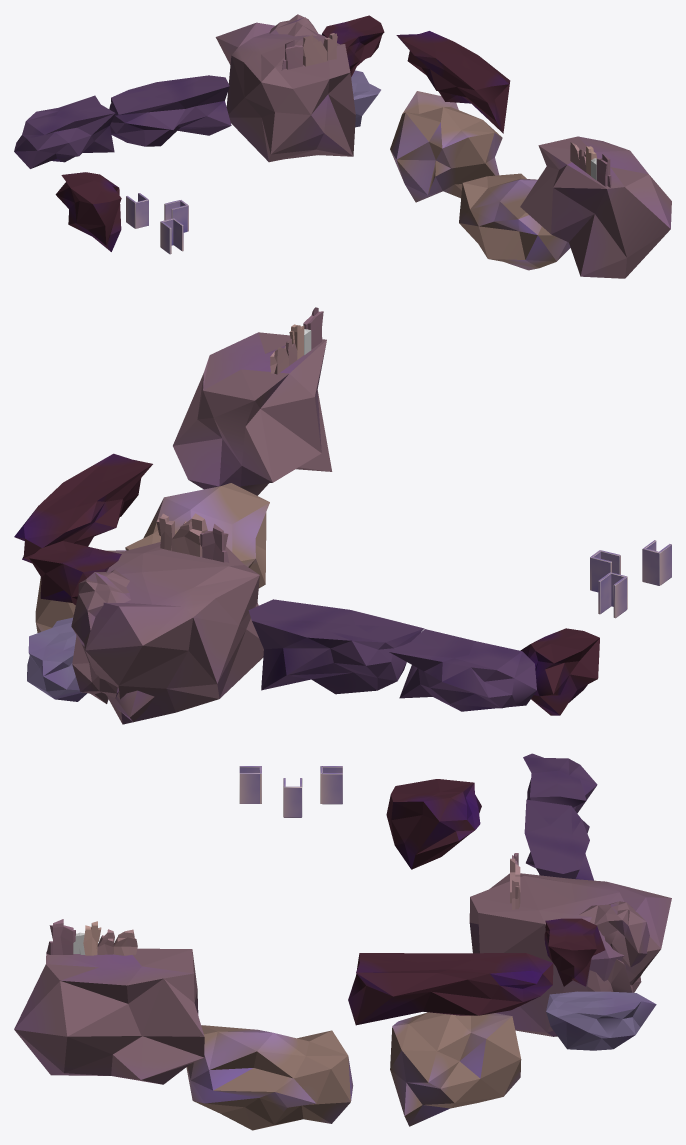
The model's file is stone_3.fbx.
The picture shows the model from 3 angles, top to bottom: view 1: azimuth 30°, elevation 25°; view 2: azimuth 150°, elevation 25°; view 3: azimuth 270°, elevation 25°; orthographic projection. The views are drawn at different scales.
Parts seen in each view (by area): view 1: st_3_28.001, st_3_18.001, st_3_27.001, st_3_26.001, st_3_21.001, st_3_20.001, st_3_22.001, st_3_23.001, st_3_24.001, st_3_29.001, st_3_25.001, st_3_7.001 (+3 smaller); view 2: st_3_28.001, st_3_18.001, st_3_21.001, st_3_22.001, st_3_20.001, st_3_26.001, st_3_23.001, st_3_24.001, st_3_29.001, st_3_25.001, st_3_19.001, st_3_27.001 (+3 smaller); view 3: st_3_18.001, st_3_26.001, st_3_28.001, st_3_20.001, st_3_27.001, st_3_23.001, st_3_29.001, st_3_21.001, st_3_24.001, st_3_22.001, st_3_25.001, st_3_19.001 (+4 smaller).
Part boxes in pixels (x1,y1,x2,y2): st_3_28.001: (215,22,355,162); st_3_18.001: (520,136,671,278); st_3_27.001: (390,91,502,202); st_3_26.001: (459,173,570,270); st_3_21.001: (109,75,231,146); st_3_20.001: (396,31,510,133); st_3_22.001: (14,95,115,168); st_3_23.001: (55,172,121,251); st_3_24.001: (321,15,384,77); st_3_29.001: (351,70,380,127); st_3_25.001: (269,14,317,36); st_3_7.001: (302,34,327,66); st_3_28.001: (84,542,263,724); st_3_18.001: (173,332,332,495); st_3_21.001: (248,599,424,694); st_3_22.001: (389,629,536,711); st_3_20.001: (14,453,152,563); st_3_26.001: (125,483,269,588); st_3_23.001: (520,628,599,715); st_3_24.001: (29,541,121,605); st_3_29.001: (27,617,86,701); st_3_25.001: (71,569,130,646); st_3_19.001: (72,635,154,722); st_3_27.001: (35,550,126,632); st_3_18.001: (14,948,204,1084); st_3_26.001: (186,1025,353,1130); st_3_28.001: (469,873,671,1036); st_3_20.001: (348,953,553,1025); st_3_27.001: (390,1012,521,1126); st_3_23.001: (386,779,481,869); st_3_29.001: (546,991,656,1050); st_3_21.001: (524,799,593,880); st_3_24.001: (544,918,605,986); st_3_22.001: (523,753,597,813); st_3_25.001: (578,901,649,967); st_3_19.001: (587,959,641,992).
Size of the model in its own units: 19006 by 7247 by 20485.
